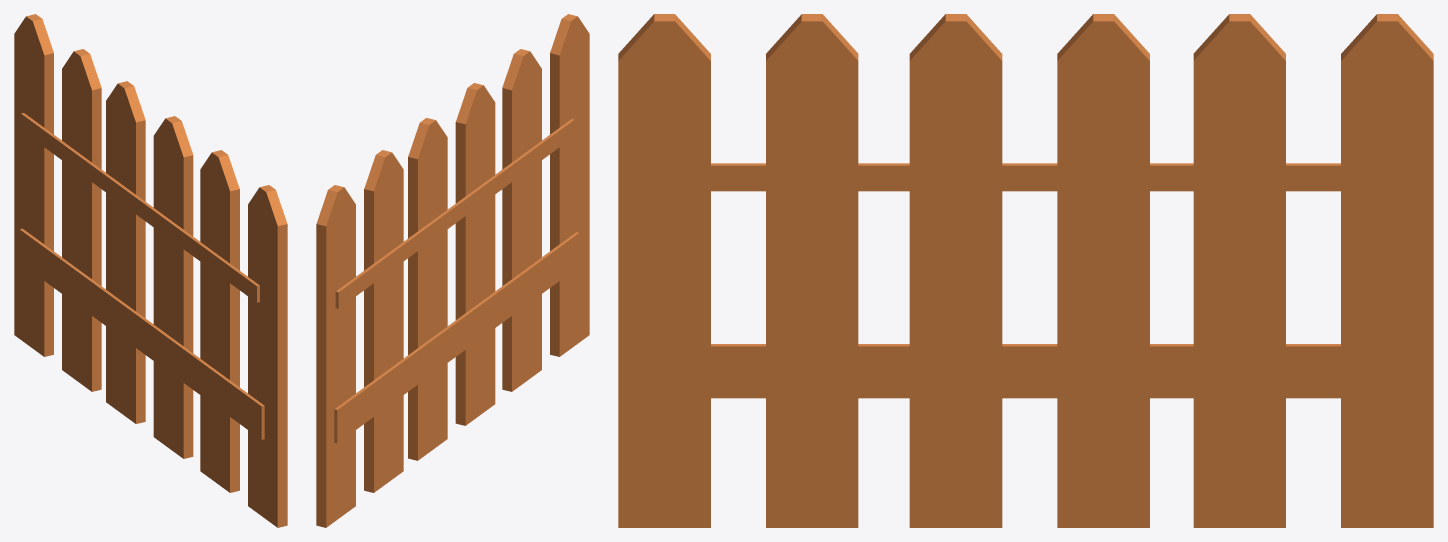
Rendered from fence.fbx.
3 renders of one model, left to right at view 1: azimuth 30°, elevation 25°; view 2: azimuth 150°, elevation 25°; view 3: azimuth 270°, elevation 25°, orthographic. The views are drawn at different scales.
Visible parts, largest first — view 1: Fence; view 2: Fence; view 3: Fence.
Part boxes in pixels (bbox=[...]): Fence: bbox=[14, 14, 287, 527]; Fence: bbox=[316, 14, 589, 527]; Fence: bbox=[618, 14, 1433, 527].
Bounding box in the file's own units: 8.25 × 202 × 295.
